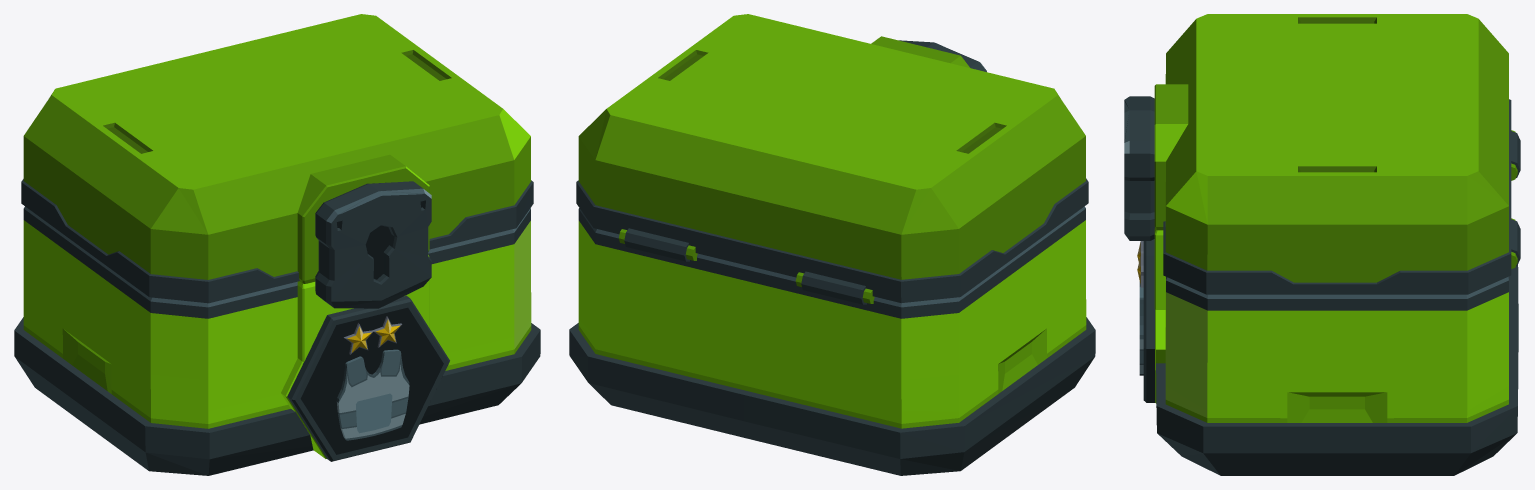
File: BOX_GEAR_G1_02.fbx
The picture shows the model from 3 angles, left to right: view 1: azimuth 30°, elevation 25°; view 2: azimuth 150°, elevation 25°; view 3: azimuth 270°, elevation 25°; orthographic projection. The views are drawn at different scales.
Parts seen in each view (by area): view 1: Object003, BOX_GEAR_G1_02, Object004; view 2: Object003, BOX_GEAR_G1_02; view 3: Object003, BOX_GEAR_G1_02, Object004.
Boxes of the visible parts, x1,y1,x2,y2 form: Object003: (21,14,533,303); BOX_GEAR_G1_02: (14,206,540,475); Object004: (315,181,431,308); Object003: (576,14,1088,304); BOX_GEAR_G1_02: (569,206,1095,475); Object003: (1154,14,1520,294); BOX_GEAR_G1_02: (1137,228,1518,475); Object004: (1124,96,1154,240).
Size of the model in its own units: 187 by 128 by 158.
